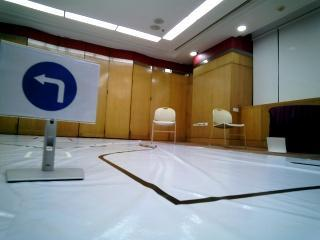left: (1, 41, 100, 124)
